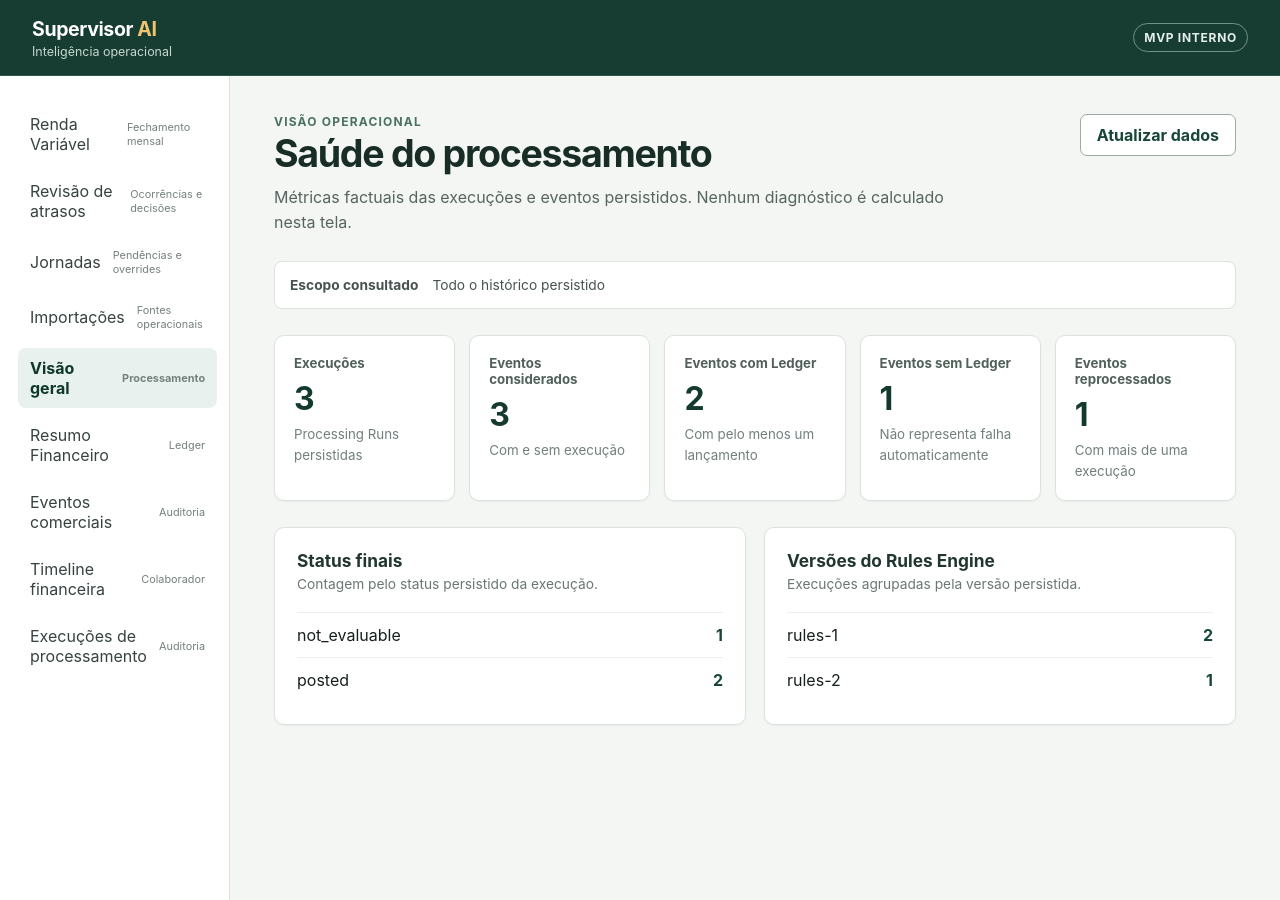
Test: financial navigation opens the summary through React Router
Click the link "Resumo Financeiro Ledger". click: (60, 435)
box: top-left (18, 415), bottom-right (217, 475)
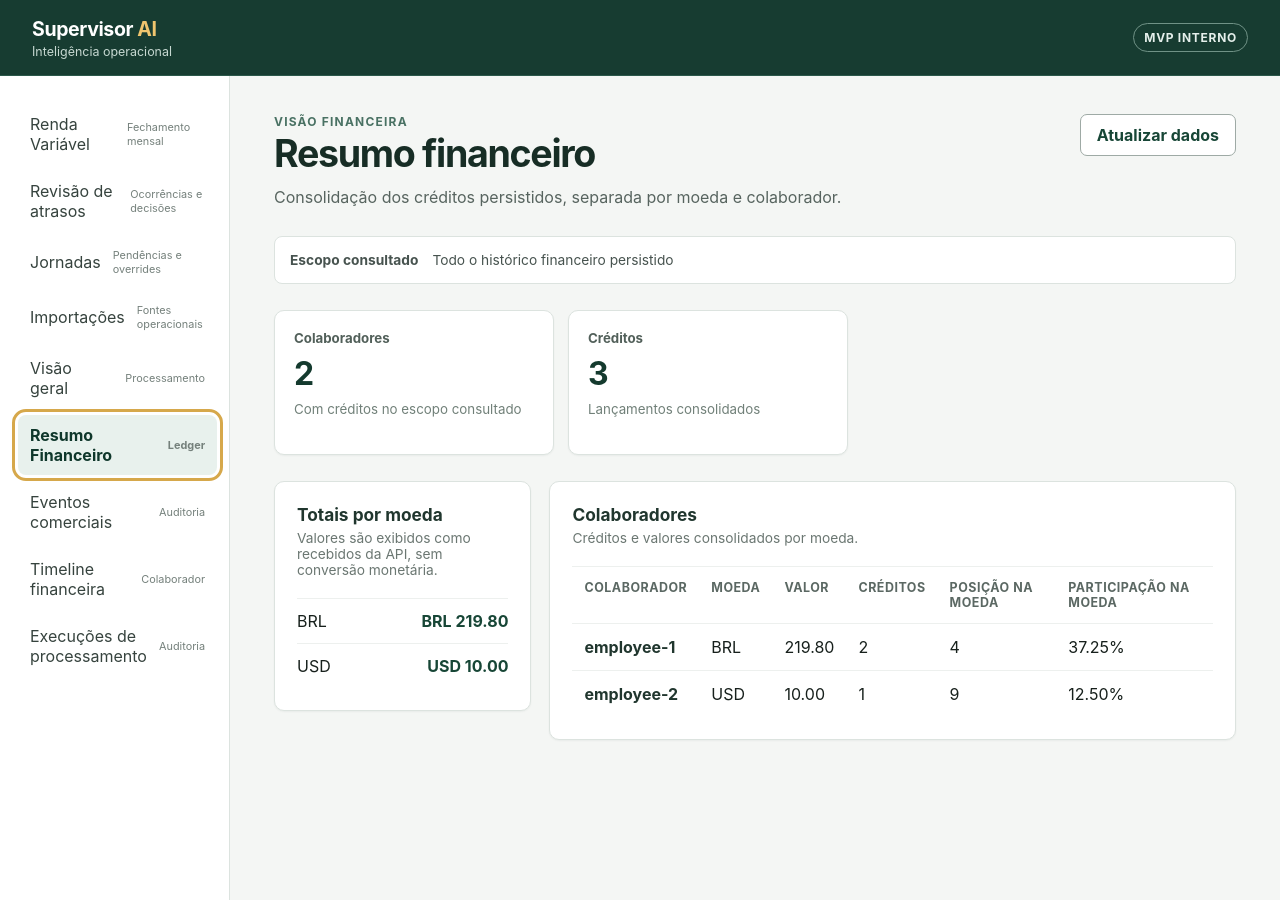
Now the heading "Resumo financeiro" is shown, box top-left (274, 131), bottom-right (595, 176)
